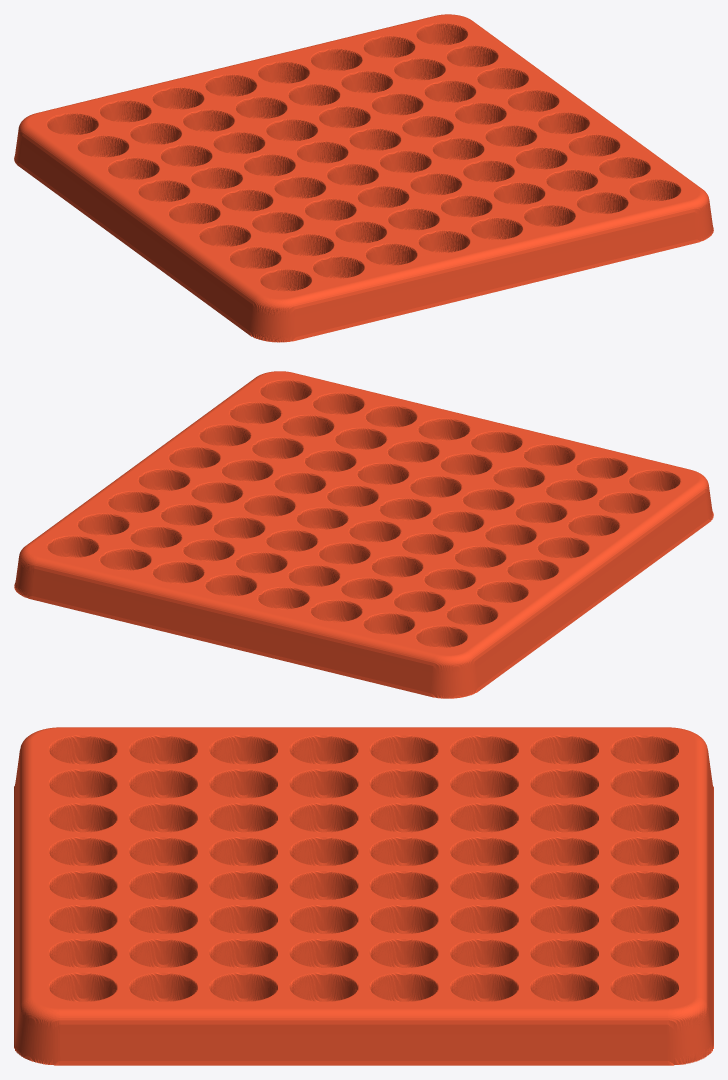
File: mold.glb
The picture shows the model from 3 angles, top to bottom: view 1: azimuth 30°, elevation 25°; view 2: azimuth 150°, elevation 25°; view 3: azimuth 270°, elevation 25°; orthographic projection. The views are drawn at different scales.
Parts seen in each view (by area): view 1: geometry_0; view 2: geometry_0; view 3: geometry_0.
Boxes of the visible parts, x1,y1,x2,y2 form: geometry_0: (14, 14, 713, 342); geometry_0: (14, 371, 713, 698); geometry_0: (14, 727, 713, 1065).
Bounding box in the file's own units: 0.1355 × 0.0105 × 0.1355.
